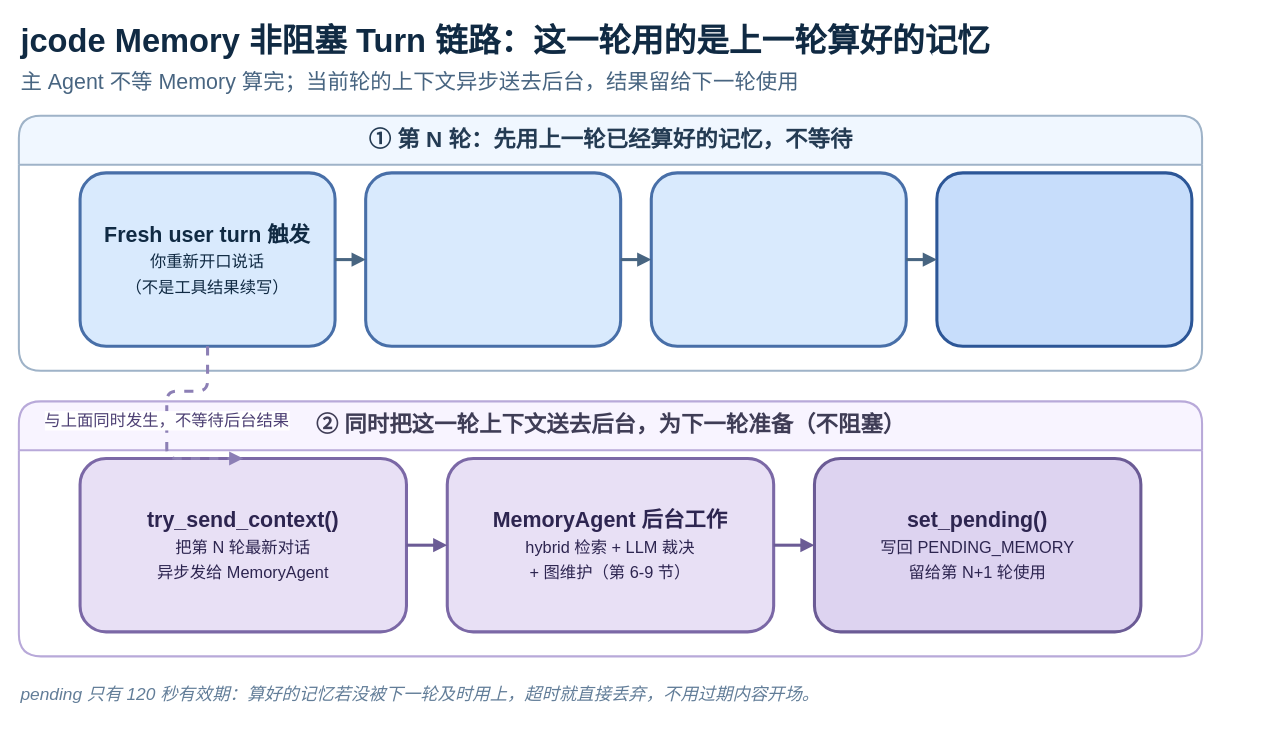
Some shapes in this 1280 by 730 pixel diagram are drawn without their labels. The centre of each missing label's shape, as x and y in pixels:
complete_split() 送出 本轮请求立刻发出 完全不等 Memory 计算: (x=1064, y=259)
取出 PENDING_MEMORY 是第 N-1 轮后台 算好的结果，不是现算的: (x=493, y=259)
拼进 # Memory Corrections / Facts / Preferences 三段: (x=778, y=259)
